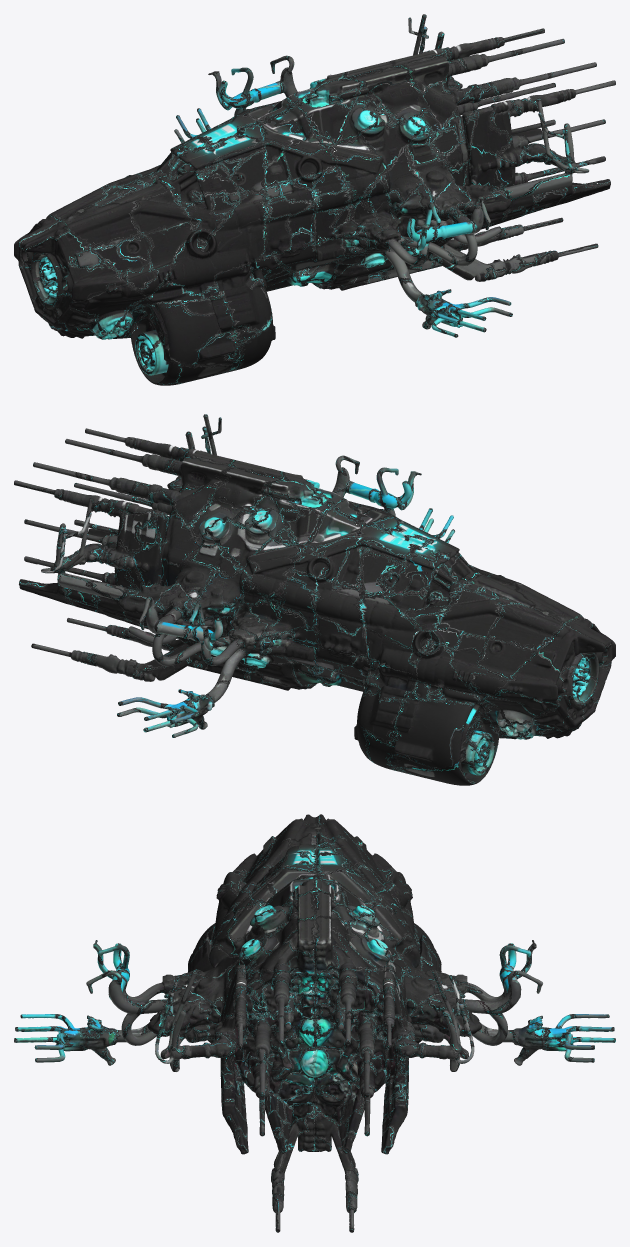
File: Dreadnought_Hive Throne_lod0.glb
The picture shows the model from 3 angles, top to bottom: view 1: azimuth 30°, elevation 25°; view 2: azimuth 150°, elevation 25°; view 3: azimuth 270°, elevation 25°; orthographic projection. The views are drawn at different scales.
Visible parts, largest first — view 1: mesh; view 2: mesh; view 3: mesh.
Part boxes in pixels (bbox=[...]): mesh: bbox=[14, 14, 615, 385]; mesh: bbox=[14, 414, 615, 785]; mesh: bbox=[14, 814, 615, 1232].
Size of the model in its own units: 1.9 by 0.7319 by 1.69.
Materials: 1 (1 with a texture image).
